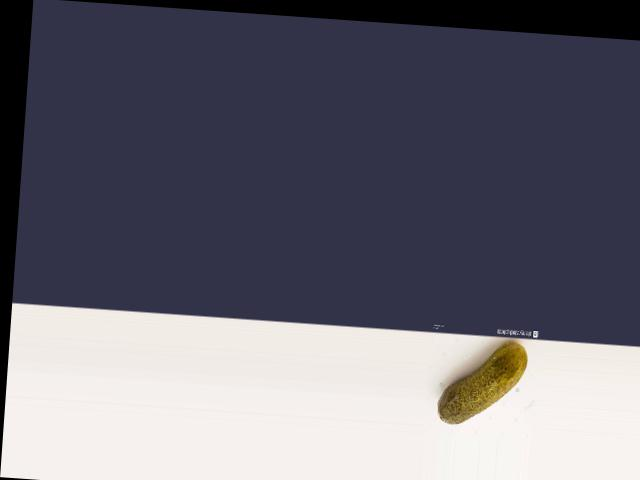cucumber: (436, 337, 528, 428)
